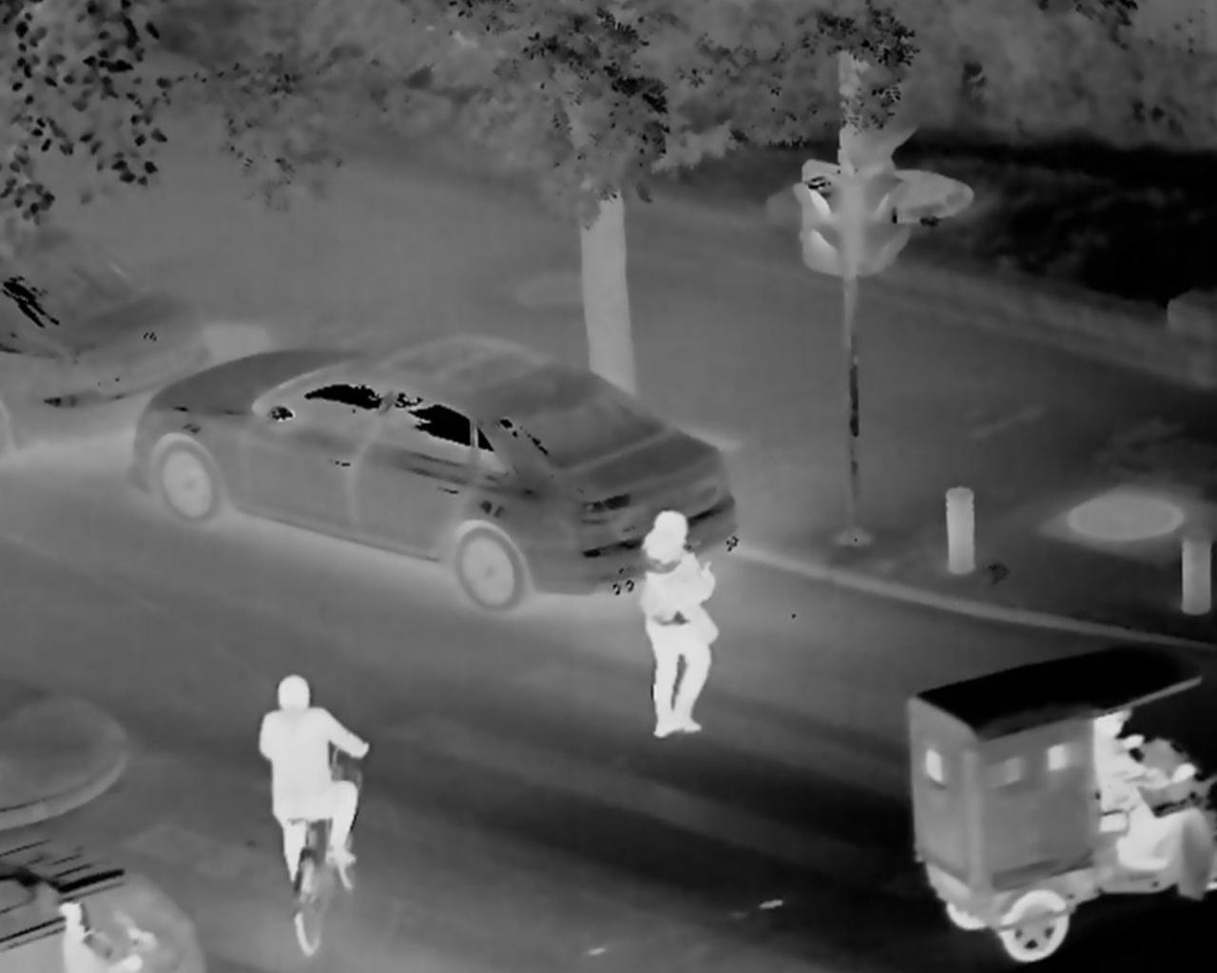person: (256, 670, 376, 880), (628, 507, 715, 742), (1108, 715, 1214, 899), (63, 878, 119, 973)
